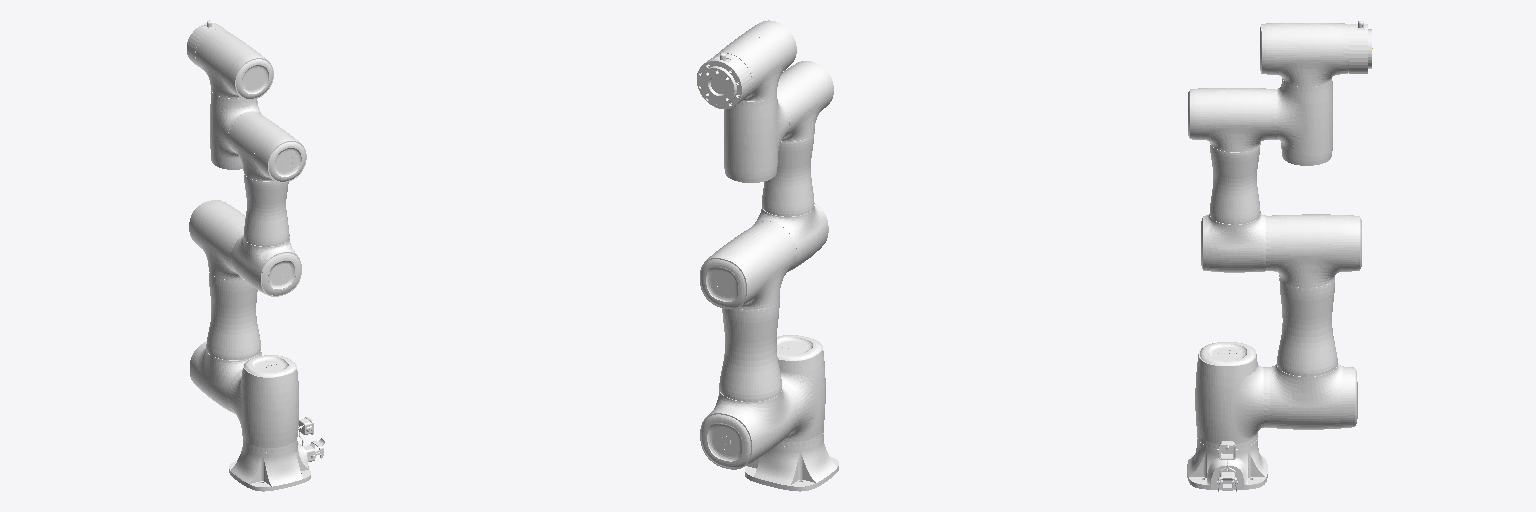
robot.urdf — cr3_robot:
<?xml version="1.0" encoding="utf-8"?>
<!-- This URDF was automatically created by SolidWorks to URDF Exporter! Originally created by Stephen Brawner ([email redacted])
     Commit Version: 1.6.0-1-g15f4949  Build Version: 1.6.7594.29634
     For more information, please see http://wiki.ros.org/sw_urdf_exporter -->
<robot
  name="cr3_robot">

  <link name="world"/>
  <joint name="world_joint" type="fixed">
    <parent link="world"/>
    <child link="base_link"/>
    <origin rpy="0.0 0.0 -3.14" xyz="0.0 0.0 0.0"/>
  </joint>

  <link
    name="base_link">
    <inertial>
      <origin
        xyz="-0.0027213 3.915E-07 0.022038"
        rpy="0 0 0" />
      <mass
        value="0.653" />
      <inertia
        ixx="0.00075137"
        ixy="-3.0366E-08"
        ixz="1.2825E-06"
        iyy="0.00080094"
        iyz="2.5423E-09"
        izz="0.0010902" />
    </inertial>
    <visual>
      <origin
        xyz="0 0 0"
        rpy="0 0 0" />
      <geometry>
        <mesh
          filename="meshes/base_link.STL" />
      </geometry>
      <material
        name="">
        <color
          rgba="1 1 1 1" />
      </material>
    </visual>
    <collision>
      <origin
        xyz="0 0 0"
        rpy="0 0 0" />
      <geometry>
        <mesh
          filename="meshes/base_link.STL" />
      </geometry>
    </collision>
  </link>

  <link
    name="Link1">
    <inertial>
      <origin
        xyz="-3.68657602416735E-05 -0.00394516685385322 0.00364037839421286"
        rpy="0 0 0" />
      <mass
        value="1.31100598822002" />
      <inertia
        ixx="0.00202531167977736"
        ixy="-1.62039964254407E-06"
        ixz="4.44242218921916E-07"
        iyy="0.00198085794611413"
        iyz="0.000256891817572315"
        izz="0.00183966900872187" />
    </inertial>
    <visual>
      <origin
        xyz="0 0 0"
        rpy="0 0 0" />
      <geometry>
        <mesh
          filename="meshes/Link1.STL" />
      </geometry>
      <material
        name="">
        <color
          rgba="1 1 1 1" />
      </material>
    </visual>
    <collision>
      <origin
        xyz="0 0 0"
        rpy="0 0 0" />
      <geometry>
        <mesh
          filename="meshes/Link1.STL" />
      </geometry>
    </collision>
  </link>
  <joint
    name="joint1"
    type="revolute">
    <origin
      xyz="0 0 0.1283"
      rpy="0 0 0" />
    <parent
      link="base_link" />
    <child
      link="Link1" />
    <axis
      xyz="0 0 1" />
    <limit
      lower="-3.14"
      upper="3.14"
      effort="0"
      velocity="0" />
  </joint>
  <link
    name="Link2">
    <inertial>
      <origin
        xyz="-0.129235280055448 1.440541622715E-05 0.133173619961293"
        rpy="0 0 0" />
      <mass
        value="3.40043726977504" />
      <inertia
        ixx="0.00450581324845612"
        ixy="1.58054368766225E-06"
        ixz="8.56287041890268E-05"
        iyy="0.00632329822349442"
        iyz="-4.41201729949356E-07"
        izz="0.00578241711656701" />
    </inertial>
    <visual>
      <origin
        xyz="0 0 0"
        rpy="0 0 0" />
      <geometry>
        <mesh
          filename="meshes/Link2.STL" />
      </geometry>
      <material
        name="">
        <color
          rgba="1 1 1 1" />
      </material>
    </visual>
    <collision>
      <origin
        xyz="0 0 0"
        rpy="0 0 0" />
      <geometry>
        <mesh
          filename="meshes/Link2.STL" />
      </geometry>
    </collision>
  </link>
  <joint
    name="joint2"
    type="revolute">
    <origin
      xyz="0 0 0"
      rpy="1.5708 1.5708 0" />
    <parent
      link="Link1" />
    <child
      link="Link2" />
    <axis
      xyz="0 0 1" />
    <limit
      lower="-3.14"
      upper="3.14"
      effort="0"
      velocity="0" />
  </joint>
  <link
    name="Link3">
    <inertial>
      <origin
        xyz="-0.119822632176479 8.63344146663093E-08 0.0099876637825216"
        rpy="0 0 0" />
      <mass
        value="2.21449412948544" />
      <inertia
        ixx="0.00236120280734313"
        ixy="1.81888962826726E-08"
        ixz="0.000137629457194959"
        iyy="0.00313635345351584"
        iyz="-1.39166877342495E-08"
        izz="0.00285118872456311" />
    </inertial>
    <visual>
      <origin
        xyz="0 0 0"
        rpy="0 0 0" />
      <geometry>
        <mesh
          filename="meshes/Link3.STL" />
      </geometry>
      <material
        name="">
        <color
          rgba="1 1 1 1" />
      </material>
    </visual>
    <collision>
      <origin
        xyz="0 0 0"
        rpy="0 0 0" />
      <geometry>
        <mesh
          filename="meshes/Link3.STL" />
      </geometry>
    </collision>
  </link>
  <joint
    name="joint3"
    type="revolute">
    <origin
      xyz="-0.274 0 0"
      rpy="0 0 0" />
    <parent
      link="Link2" />
    <child
      link="Link3" />
    <axis
      xyz="0 0 1" />
    <limit
      lower="-2.86"
      upper="2.86"
      effort="0"
      velocity="0" />
  </joint>
  <link
    name="Link4">
    <inertial>
      <origin
        xyz="1.74679534498573E-07 0.0034522361215461 -0.0028730999658578"
        rpy="0 0 0" />
      <mass
        value="0.842272956366123" />
      <inertia
        ixx="0.00100389823526424"
        ixy="-3.26498724132116E-09"
        ixz="-3.83652674720848E-09"
        iyy="0.000793473566890046"
        iyz="0.000133420135294005"
        izz="0.000993889852029541" />
    </inertial>
    <visual>
      <origin
        xyz="0 0 0"
        rpy="0 0 0" />
      <geometry>
        <mesh
          filename="meshes/Link4.STL" />
      </geometry>
      <material
        name="">
        <color
          rgba="1 1 1 1" />
      </material>
    </visual>
    <collision>
      <origin
        xyz="0 0 0"
        rpy="0 0 0" />
      <geometry>
        <mesh
          filename="meshes/Link4.STL" />
      </geometry>
    </collision>
  </link>
  <joint
    name="joint4"
    type="revolute">
    <origin
      xyz="-0.23 0 0.1283"
      rpy="0 0 -1.5708" />
    <parent
      link="Link3" />
    <child
      link="Link4" />
    <axis
      xyz="0 0 1" />
    <limit
      lower="-3.14"
      upper="3.14"
      effort="0"
      velocity="0" />
  </joint>
  <link
    name="Link5">
    <inertial>
      <origin
        xyz="-1.74603758796282E-07 -0.00333192403958193 -0.00286780844130663"
        rpy="0 0 0" />
      <mass
        value="0.843692877114241" />
      <inertia
        ixx="0.0010085532680982"
        ixy="-7.28325271824168E-09"
        ixz="9.25818664621925E-09"
        iyy="0.000794614679668754"
        iyz="-0.000133904812596915"
        izz="0.000998497358703575" />
    </inertial>
    <visual>
      <origin
        xyz="0 0 0"
        rpy="0 0 0" />
      <geometry>
        <mesh
          filename="meshes/Link5.STL" />
      </geometry>
      <material
        name="">
        <color
          rgba="1 1 1 1" />
      </material>
    </visual>
    <collision>
      <origin
        xyz="0 0 0"
        rpy="0 0 0" />
      <geometry>
        <mesh
          filename="meshes/Link5.STL" />
      </geometry>
    </collision>
  </link>
  <joint
    name="joint5"
    type="revolute">
    <origin
      xyz="0 -0.116 0"
      rpy="1.5708 0 0" />
    <parent
      link="Link4" />
    <child
      link="Link5" />
    <axis
      xyz="0 0 1" />
    <limit
      lower="-3.14"
      upper="3.14"
      effort="0"
      velocity="0" />
  </joint>
  <link
    name="Link6">
    <inertial>
      <origin
        xyz="-5.77233004964394E-07 0.000270130842674243 -0.0201386770129675"
        rpy="0 0 0" />
      <mass
        value="0.159409278145106" />
      <inertia
        ixx="8.29484481057063E-05"
        ixy="-1.45209400395148E-09"
        ixz="-1.72340872805449E-11"
        iyy="8.35928339777967E-05"
        iyz="-1.33911019721127E-07"
        izz="0.000131911087085913" />
    </inertial>
    <visual>
      <origin
        xyz="0 0 0"
        rpy="0 0 0" />
      <geometry>
        <mesh
          filename="meshes/Link6.STL" />
      </geometry>
      <material
        name="">
        <color
          rgba="1 1 1 1" />
      </material>
    </visual>
    <collision>
      <origin
        xyz="0 0 0"
        rpy="0 0 0" />
      <geometry>
        <mesh
          filename="meshes/Link6.STL" />
      </geometry>
    </collision>
  </link>
  <joint
    name="joint6"
    type="revolute">
    <origin
      xyz="0 0.105 0"
      rpy="-1.5708 0 0" />
    <parent
      link="Link5" />
    <child
      link="Link6" />
    <axis
      xyz="0 0 1" />
    <limit
      lower="-6.28"
      upper="6.28"
      effort="0"
      velocity="0" />
  </joint>

  <!-- End Effector -->
  <joint name="ee_joint" type="fixed">
    <parent link="Link6"/>
    <child link="ee_link"/>
    <origin rpy="3.14 0.0 0.0" xyz="0.0 0.0 0.0"/>
  </joint>

  <link name="ee_link">
    <visual>
      <origin rpy="0 0 0" xyz="0 0 0"/>
      <geometry>
        <sphere radius="0.001"/>
      </geometry>
       <material name="Red"/>
    </visual>
    <collision>
      <geometry>
        <sphere radius="0.001"/>
      </geometry>
      <origin rpy="0 0 0" xyz="0.0 0 0"/>
    </collision>
    <inertial>
      <mass value="0.0"/>
      <origin rpy="-3.14 0.0 1.57" xyz="0.0 0.0 0.0"/>
      <inertia ixx="0.001" ixy="0.0" ixz="0.0" iyy="0.001" iyz="0.0" izz="0.001"/>
    </inertial>
  </link>

</robot>

--- What the picture shows (computed from the rendered views, not written in the file) ---
Views: 3 orthographic renders of the robot side by side, from view 1: azimuth 30°, elevation 25°; view 2: azimuth 150°, elevation 25°; view 3: azimuth 270°, elevation 25°.
Robot: cr3_robot — 9 links, 8 joints (6 revolute, 2 fixed); root link world; default pose: every joint at zero.
Visible links, largest first — view 1: Link3, Link2, Link1, Link5, base_link, Link4; view 2: Link2, Link3, Link4, Link1, Link5, base_link, Link6; view 3: Link2, Link3, Link1, Link5, Link4, base_link, Link6.
Link boxes in pixels (x1,y1,x2,y2): Link3: (228,112,306,296); Link2: (189,200,261,413); Link1: (230,355,298,452); Link5: (195,29,273,99); base_link: (229,417,325,491); Link4: (210,91,261,169); Link2: (700,221,799,469); Link3: (753,61,833,270); Link4: (724,93,789,182); Link1: (777,335,825,446); Link5: (716,20,796,100); base_link: (745,433,838,491); Link6: (697,53,751,109); Link2: (1264,214,1361,429); Link3: (1188,88,1276,272); Link1: (1195,342,1263,448); Link5: (1260,23,1348,86); Link4: (1277,79,1332,165); base_link: (1187,438,1267,491); Link6: (1349,21,1371,73).
Size in the robot's own frame: 0.1753 by 0.2993 by 0.8041 metres.
7 mesh visuals loaded from 7 distinct referenced files (7 binary STL).
